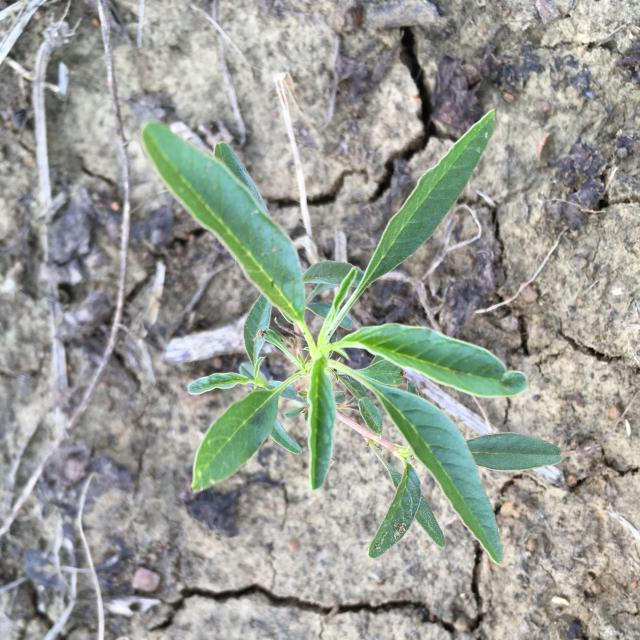Waterhemp: (141, 109, 563, 565)
